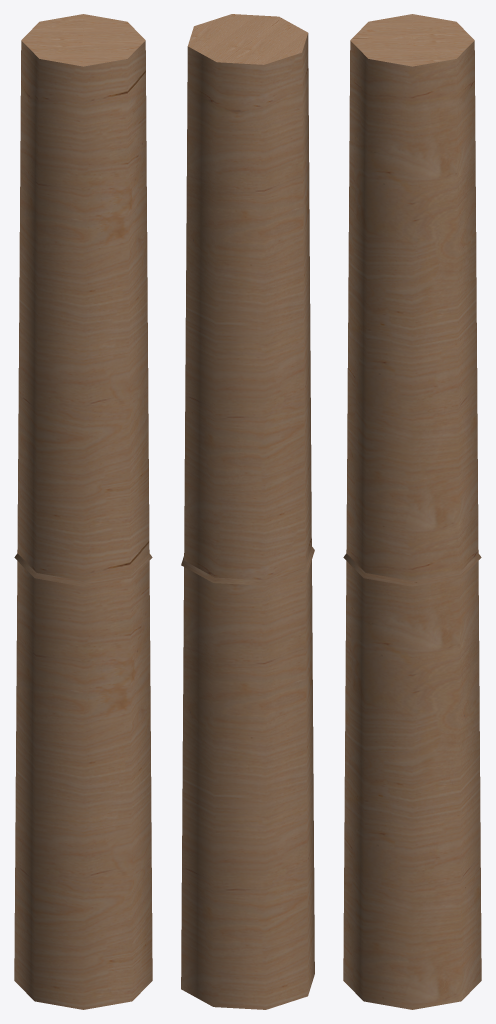
The model's file is Corner_Post-v1.0.0.glb.
3 renders of one model, left to right at view 1: azimuth 90°, elevation 25°; view 2: azimuth 150°, elevation 25°; view 3: azimuth 270°, elevation 25°, orthographic.
Visible parts, largest first — view 1: Geo_Post, Geo_ConeCap; view 2: Geo_Post, Geo_ConeCap; view 3: Geo_Post, Geo_ConeCap.
Boxes of the visible parts, box(x1,y1,x2,y2) form: Geo_Post: box(14, 14, 152, 1009); Geo_ConeCap: box(14, 553, 152, 586); Geo_Post: box(181, 14, 314, 1009); Geo_ConeCap: box(181, 546, 314, 585); Geo_Post: box(343, 14, 481, 1009); Geo_ConeCap: box(343, 553, 481, 586).
Bounding box in the file's own units: 13107 × 98301 × 13107.
2 materials, 2 textured.
